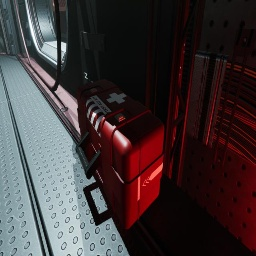FirstAidBox ,: (75, 79, 164, 230)
